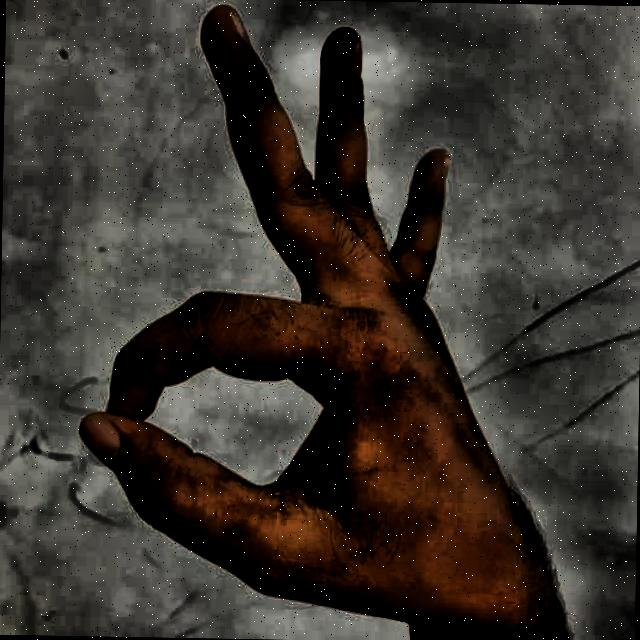Ca: (61, 0, 590, 640)
